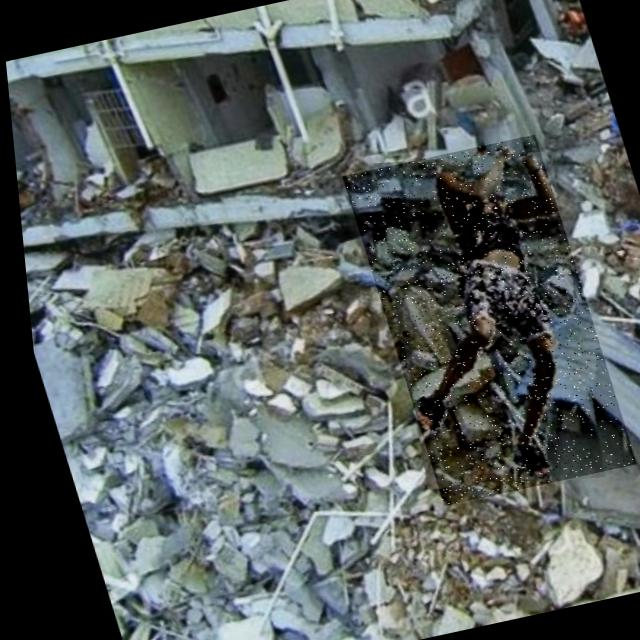Person in Rubble: (335, 134, 630, 505)
